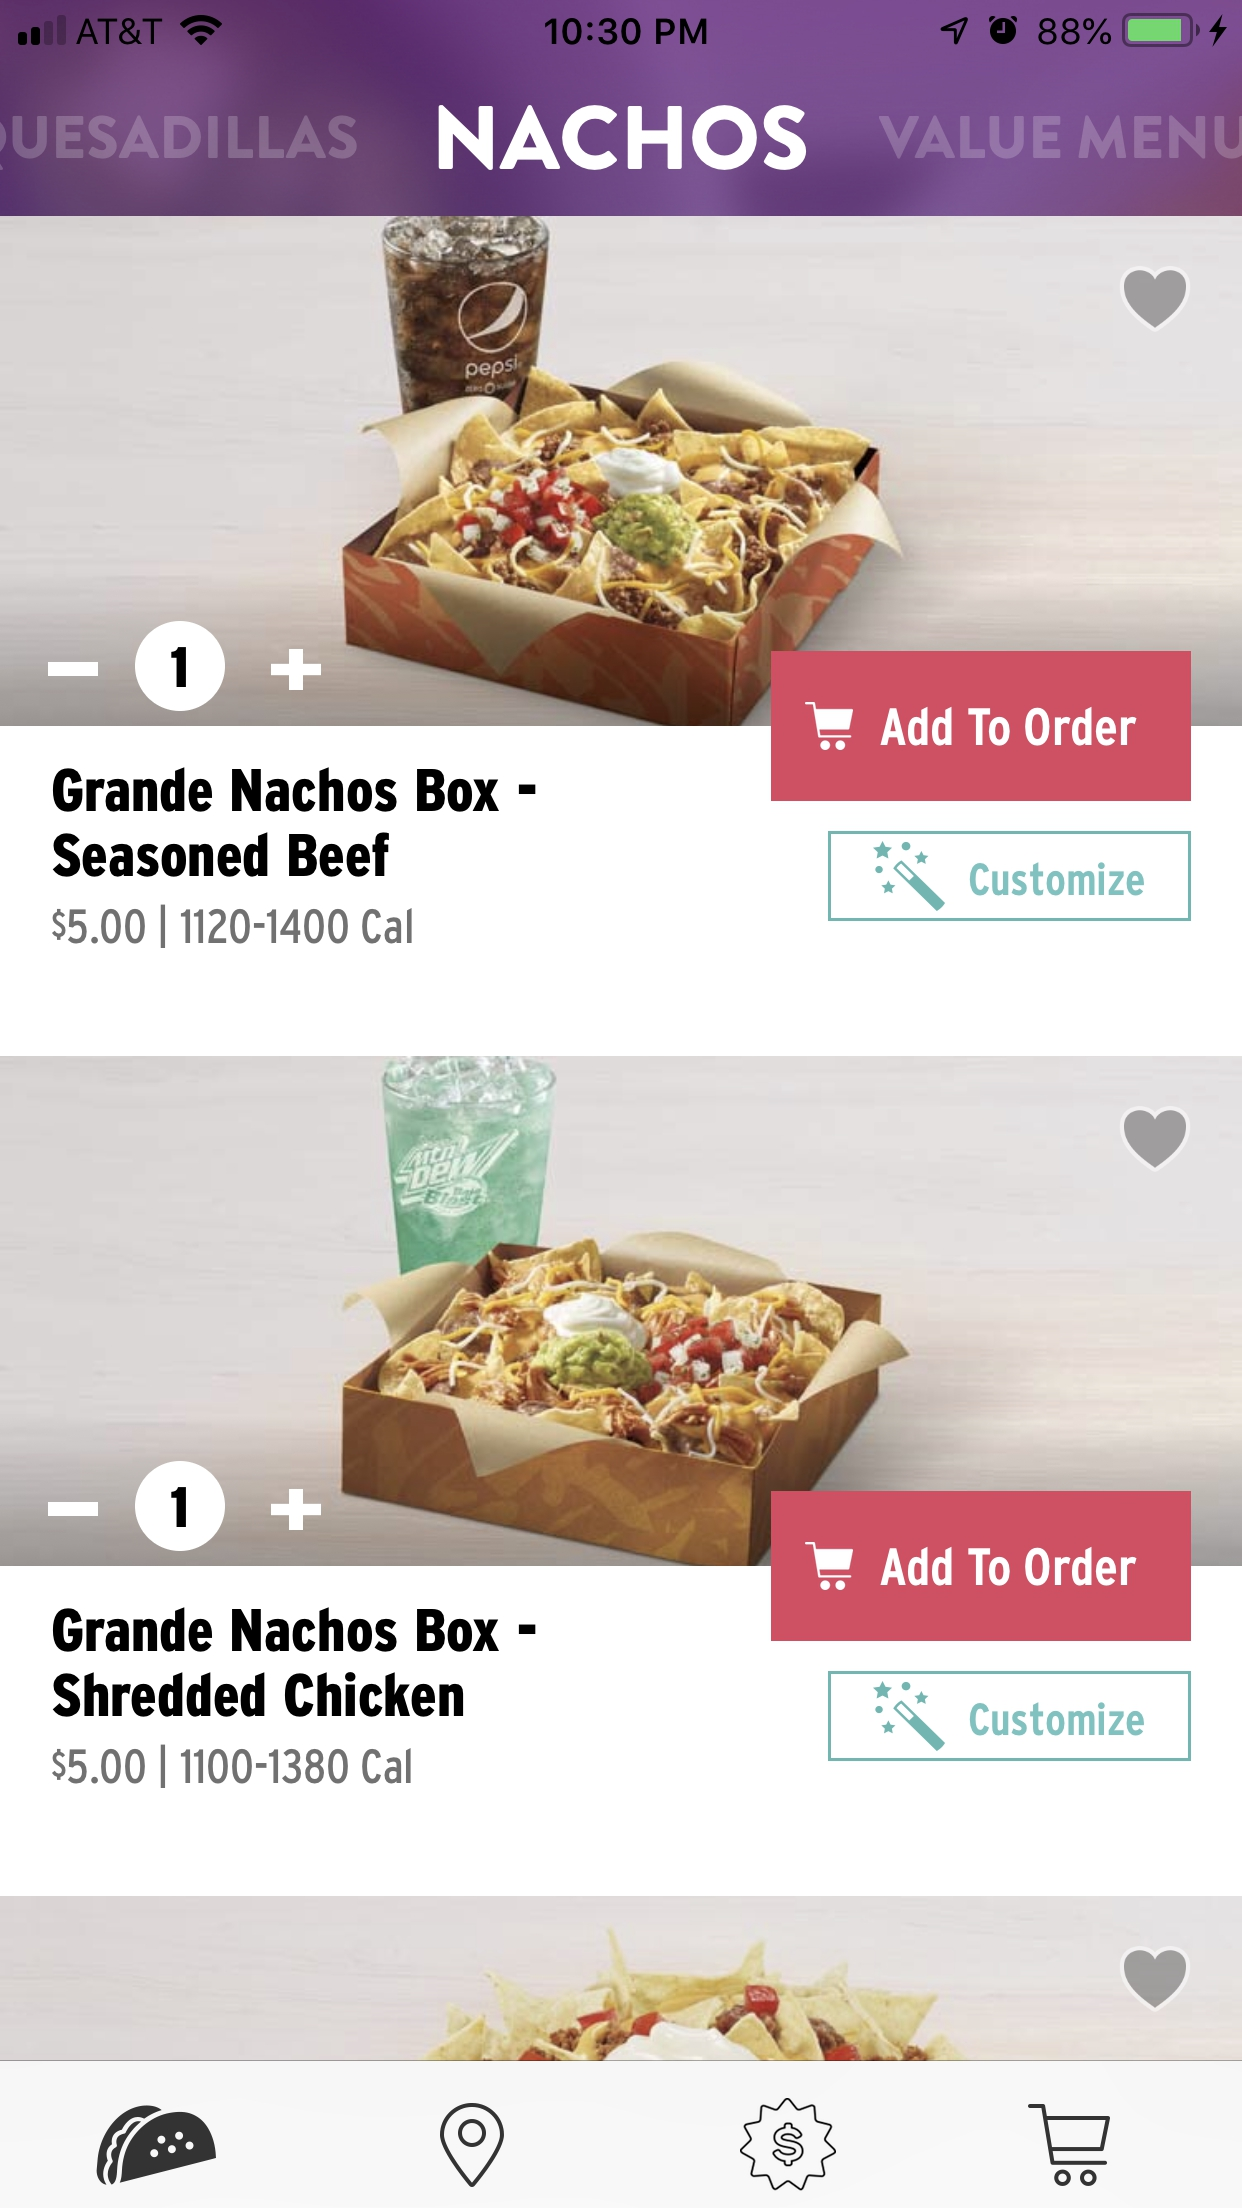Icon: (740, 2097, 839, 2191), (1027, 2103, 1112, 2187), (440, 2102, 507, 2188), (1121, 1946, 1190, 2011), (1121, 1106, 1189, 1171), (1121, 265, 1189, 331)
Image: (2, 215, 1242, 726), (2, 1057, 1240, 1567), (2, 1896, 1240, 2061), (96, 2103, 217, 2187)
Text: (52, 1606, 537, 1720), (52, 767, 537, 880), (438, 105, 808, 173), (52, 902, 414, 949), (52, 1742, 412, 1789), (878, 115, 1242, 161), (2, 115, 359, 161)
TextButton: (770, 651, 1192, 802), (770, 1491, 1192, 1642), (828, 1670, 1192, 1762), (828, 831, 1192, 922)
UpperTaskBar: (2, 2, 1242, 49)
